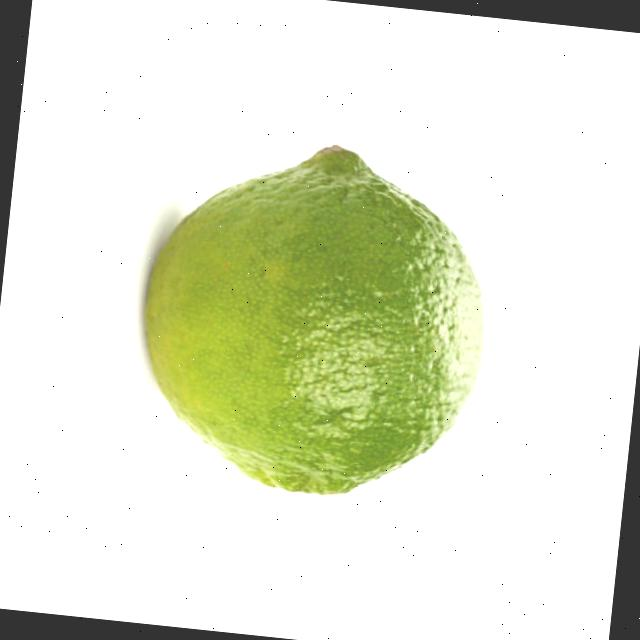Lemon: (126, 123, 507, 514)
